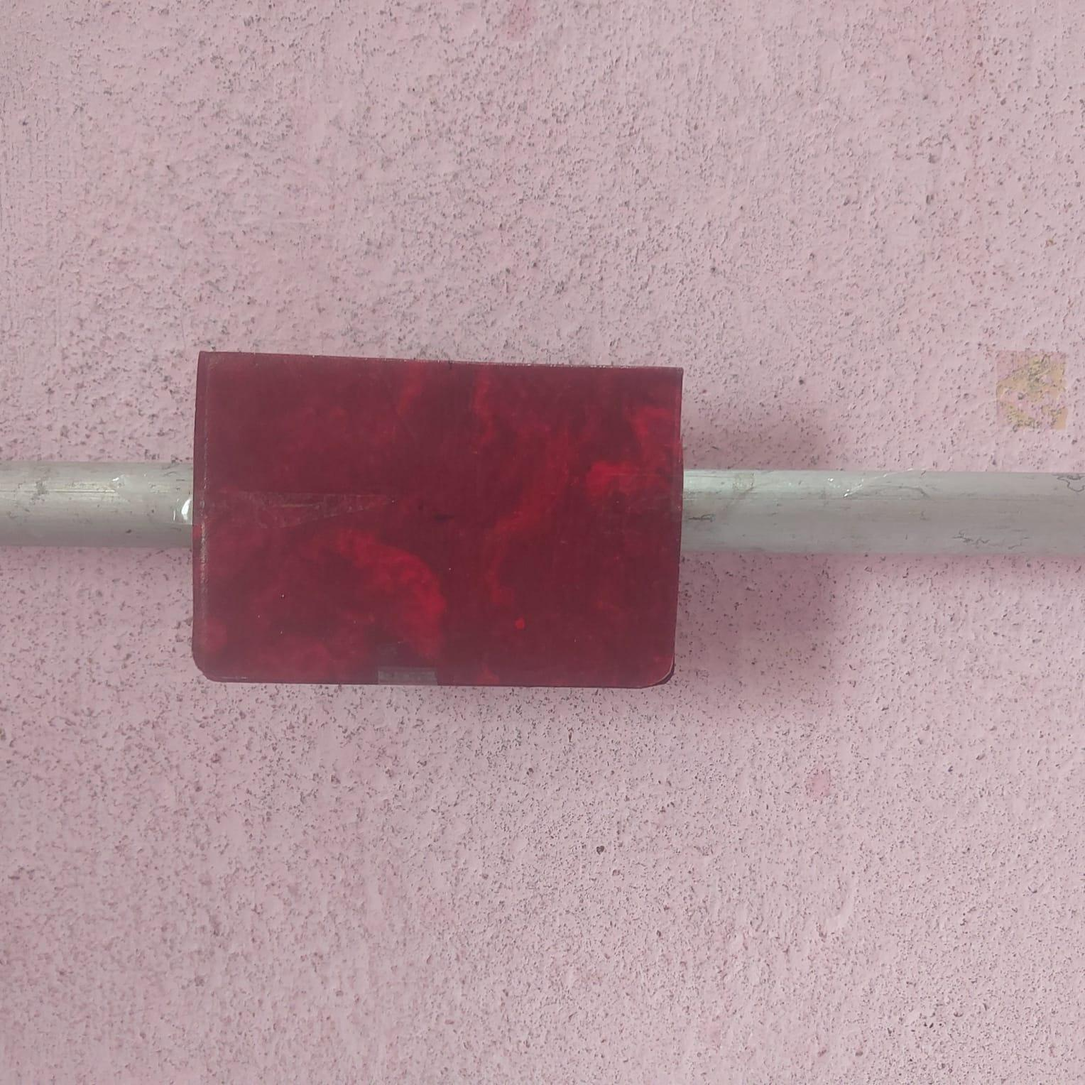wallet: (192, 336, 684, 687)
